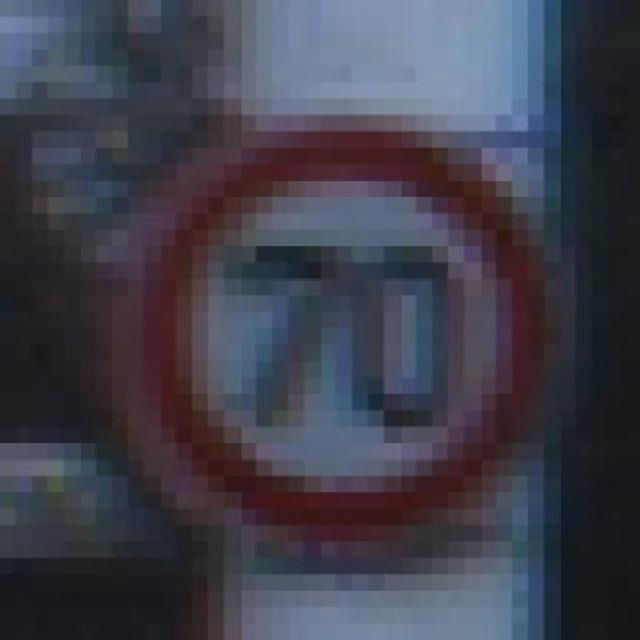forb_speed_over_70: (144, 125, 544, 540)
